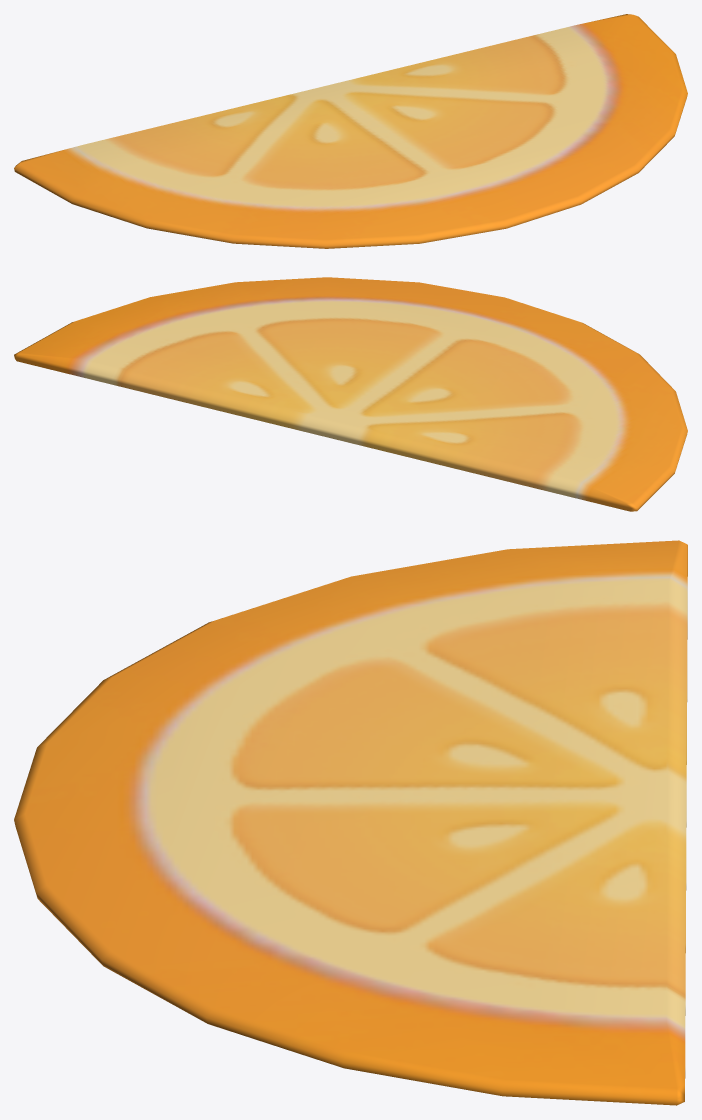
Rendered from Homestead_nm_12.fbx.
3 renders of one model, top to bottom at view 1: azimuth 30°, elevation 25°; view 2: azimuth 150°, elevation 25°; view 3: azimuth 270°, elevation 25°, orthographic. The views are drawn at different scales.
Parts seen in each view (by area): view 1: Homestead_nm_12; view 2: Homestead_nm_12; view 3: Homestead_nm_12.
Boxes of the visible parts, x1,y1,x2,y2 form: Homestead_nm_12: (14,14,687,248); Homestead_nm_12: (14,277,687,511); Homestead_nm_12: (14,540,687,1105).
Bounding box in the file's own units: 297 × 6.06 × 152.
